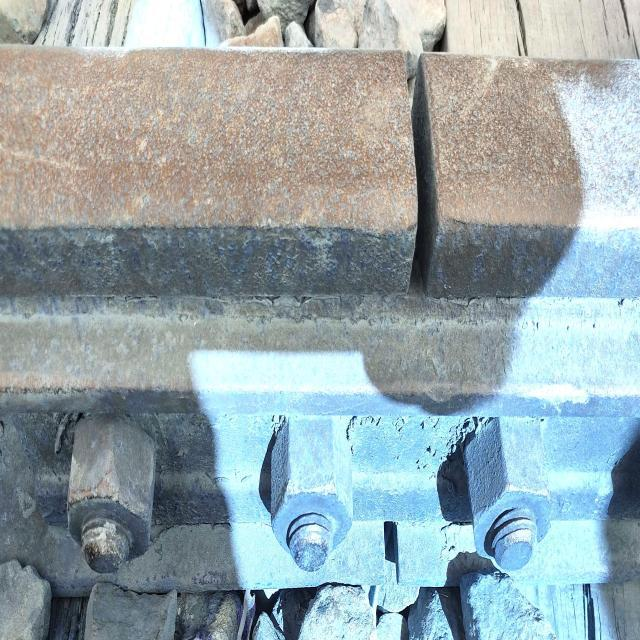Good Joint: (3, 33, 640, 631)
